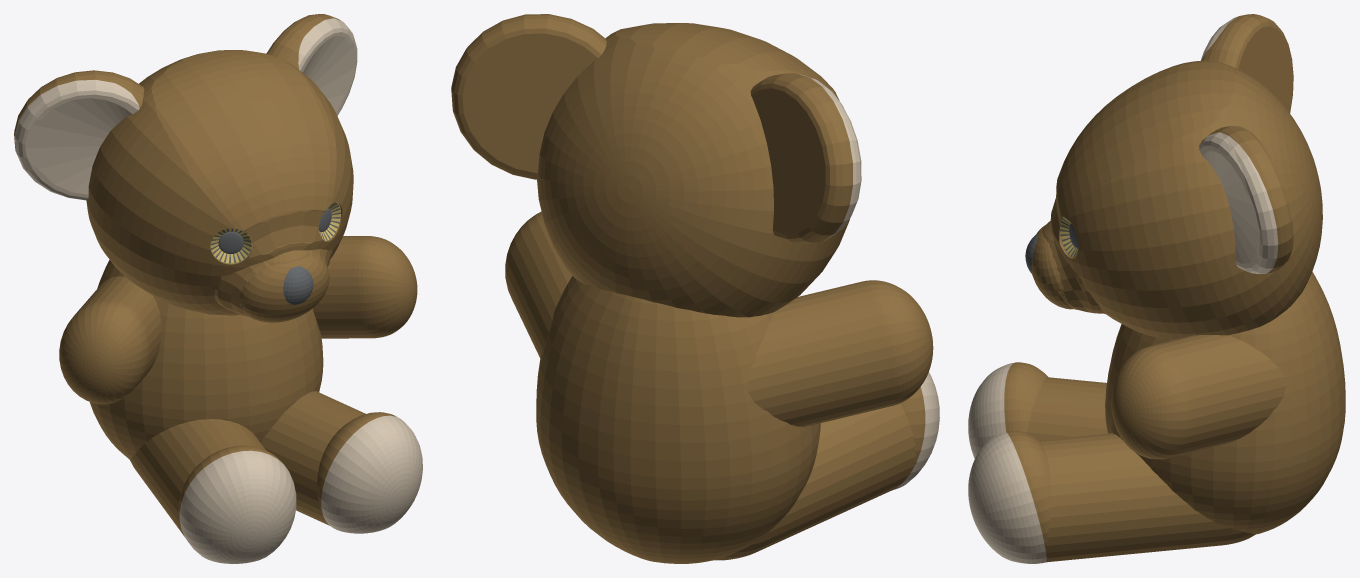
File: oso.glb
3 views of the same model, side by side, from view 1: azimuth 30°, elevation 25°; view 2: azimuth 150°, elevation 25°; view 3: azimuth 270°, elevation 25° (orthographic). The views are drawn at different scales.
Parts seen in each view (by area): view 1: Mesh_Mesh_head_geo.001_lambert2SG.001; view 2: Mesh_Mesh_head_geo.001_lambert2SG.001; view 3: Mesh_Mesh_head_geo.001_lambert2SG.001.
Part boxes in pixels (box(x1,y1,x2,y2)): Mesh_Mesh_head_geo.001_lambert2SG.001: box(14, 14, 422, 563); Mesh_Mesh_head_geo.001_lambert2SG.001: box(451, 14, 939, 563); Mesh_Mesh_head_geo.001_lambert2SG.001: box(968, 14, 1345, 563).
Size of the model in its own units: 0.129 by 0.1477 by 0.1155.
